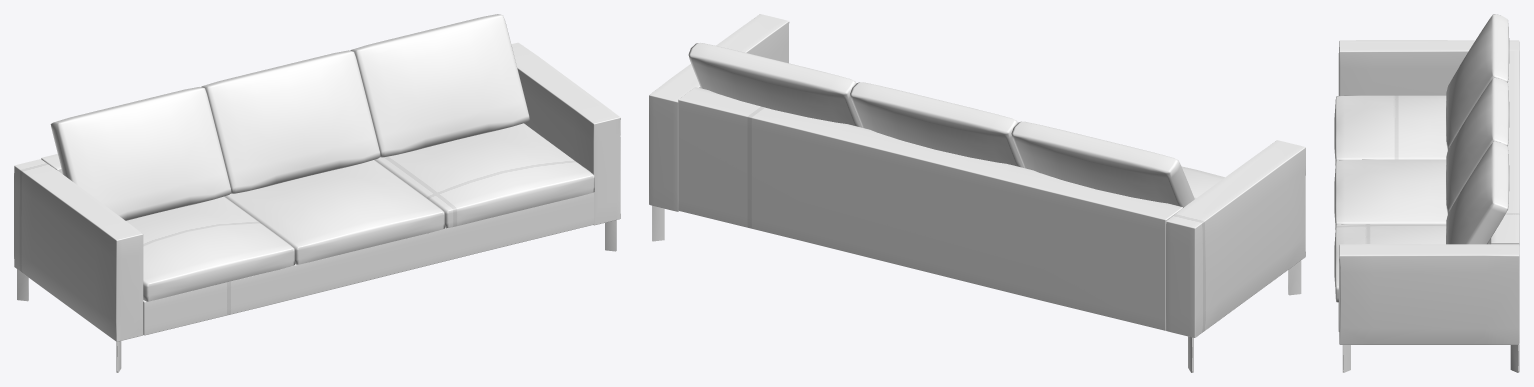
The model's file is Sofa_SL03_Allemuir_Stirling.fbx.
3 views of the same model, side by side, from view 1: azimuth 30°, elevation 25°; view 2: azimuth 150°, elevation 25°; view 3: azimuth 270°, elevation 25° (orthographic). The views are drawn at different scales.
Parts seen in each view (by area): view 1: Sofa_Stirling_SL03_Allemuir_Seat, Sofa_Stirling_SL03_Allemuir_Feet; view 2: Sofa_Stirling_SL03_Allemuir_Seat, Sofa_Stirling_SL03_Allemuir_Feet; view 3: Sofa_Stirling_SL03_Allemuir_Seat, Sofa_Stirling_SL03_Allemuir_Feet.
Part boxes in pixels (x1,y1,x2,y2): Sofa_Stirling_SL03_Allemuir_Seat: (14, 14, 620, 341); Sofa_Stirling_SL03_Allemuir_Feet: (17, 220, 616, 371); Sofa_Stirling_SL03_Allemuir_Seat: (649, 14, 1305, 337); Sofa_Stirling_SL03_Allemuir_Feet: (652, 205, 1301, 371); Sofa_Stirling_SL03_Allemuir_Seat: (1334, 14, 1519, 344); Sofa_Stirling_SL03_Allemuir_Feet: (1342, 345, 1519, 371).
Bounding box in the file's own units: 258 × 87.36 × 92.74.
